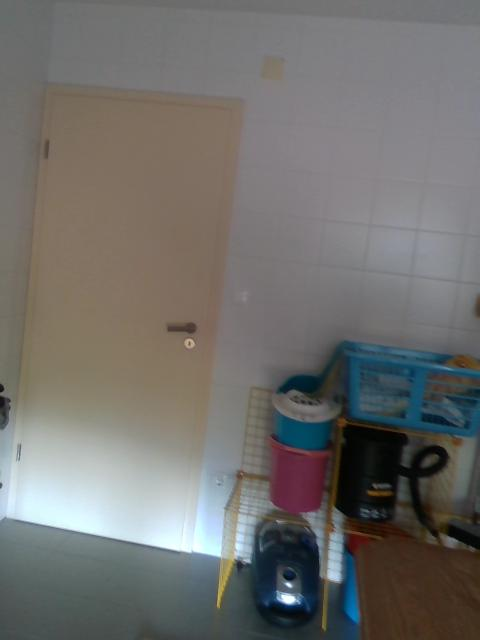door: (15, 97, 232, 553)
